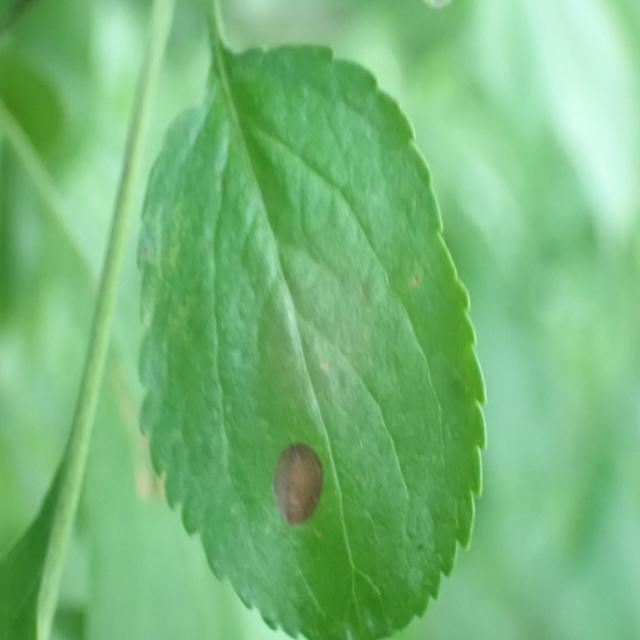Black Rot: (256, 419, 352, 544)
